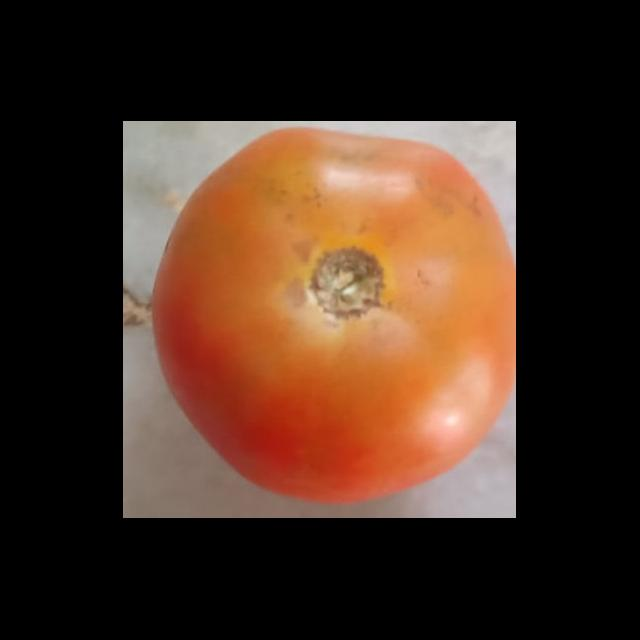tomato: (139, 125, 514, 505)
